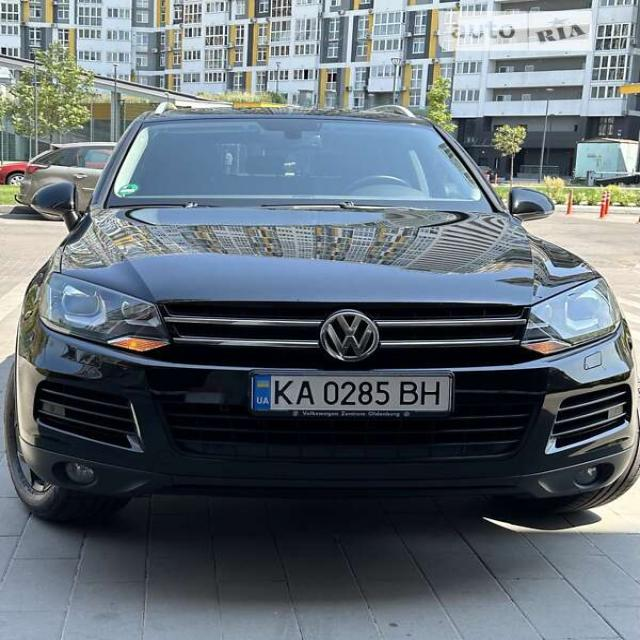plate: (245, 361, 459, 418)
